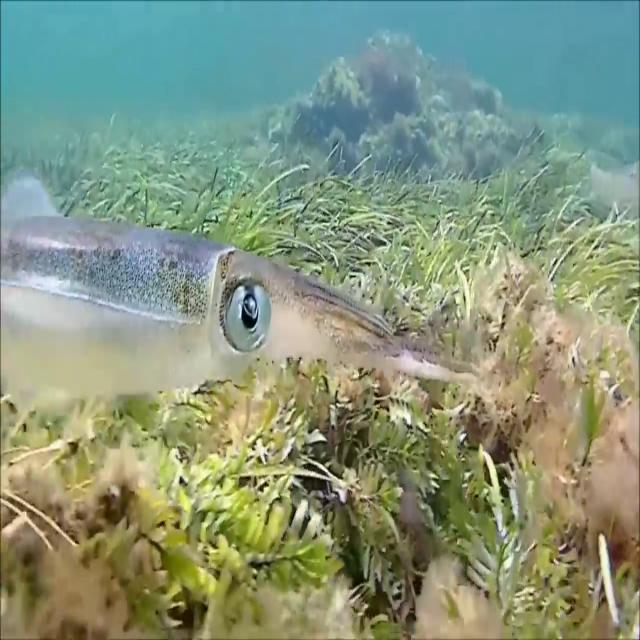squid: (0, 176, 486, 400)
